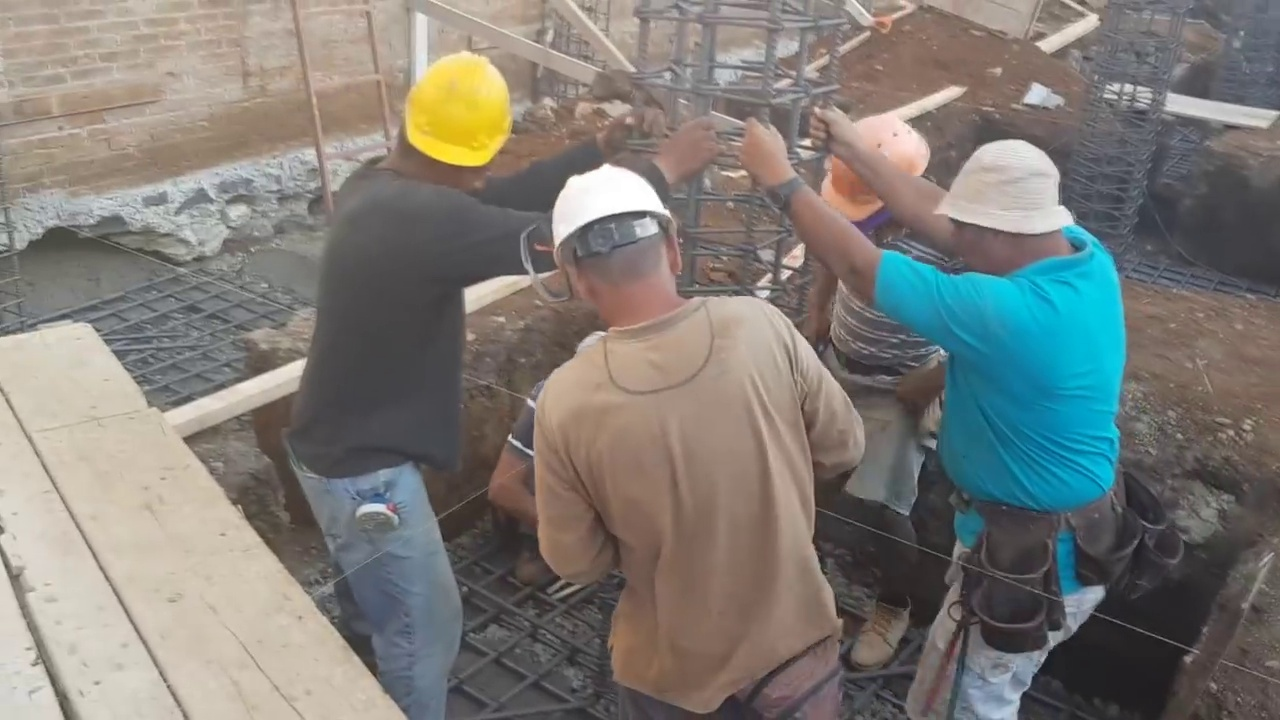helmet: (547, 169, 687, 273), (826, 109, 932, 224), (404, 53, 513, 164)
helmet-off: (916, 139, 1069, 280)
helmet-on: (551, 166, 700, 337), (365, 49, 510, 189), (817, 112, 937, 259)
person: (785, 95, 1141, 707), (261, 49, 564, 707), (530, 145, 868, 720), (818, 109, 943, 681)
